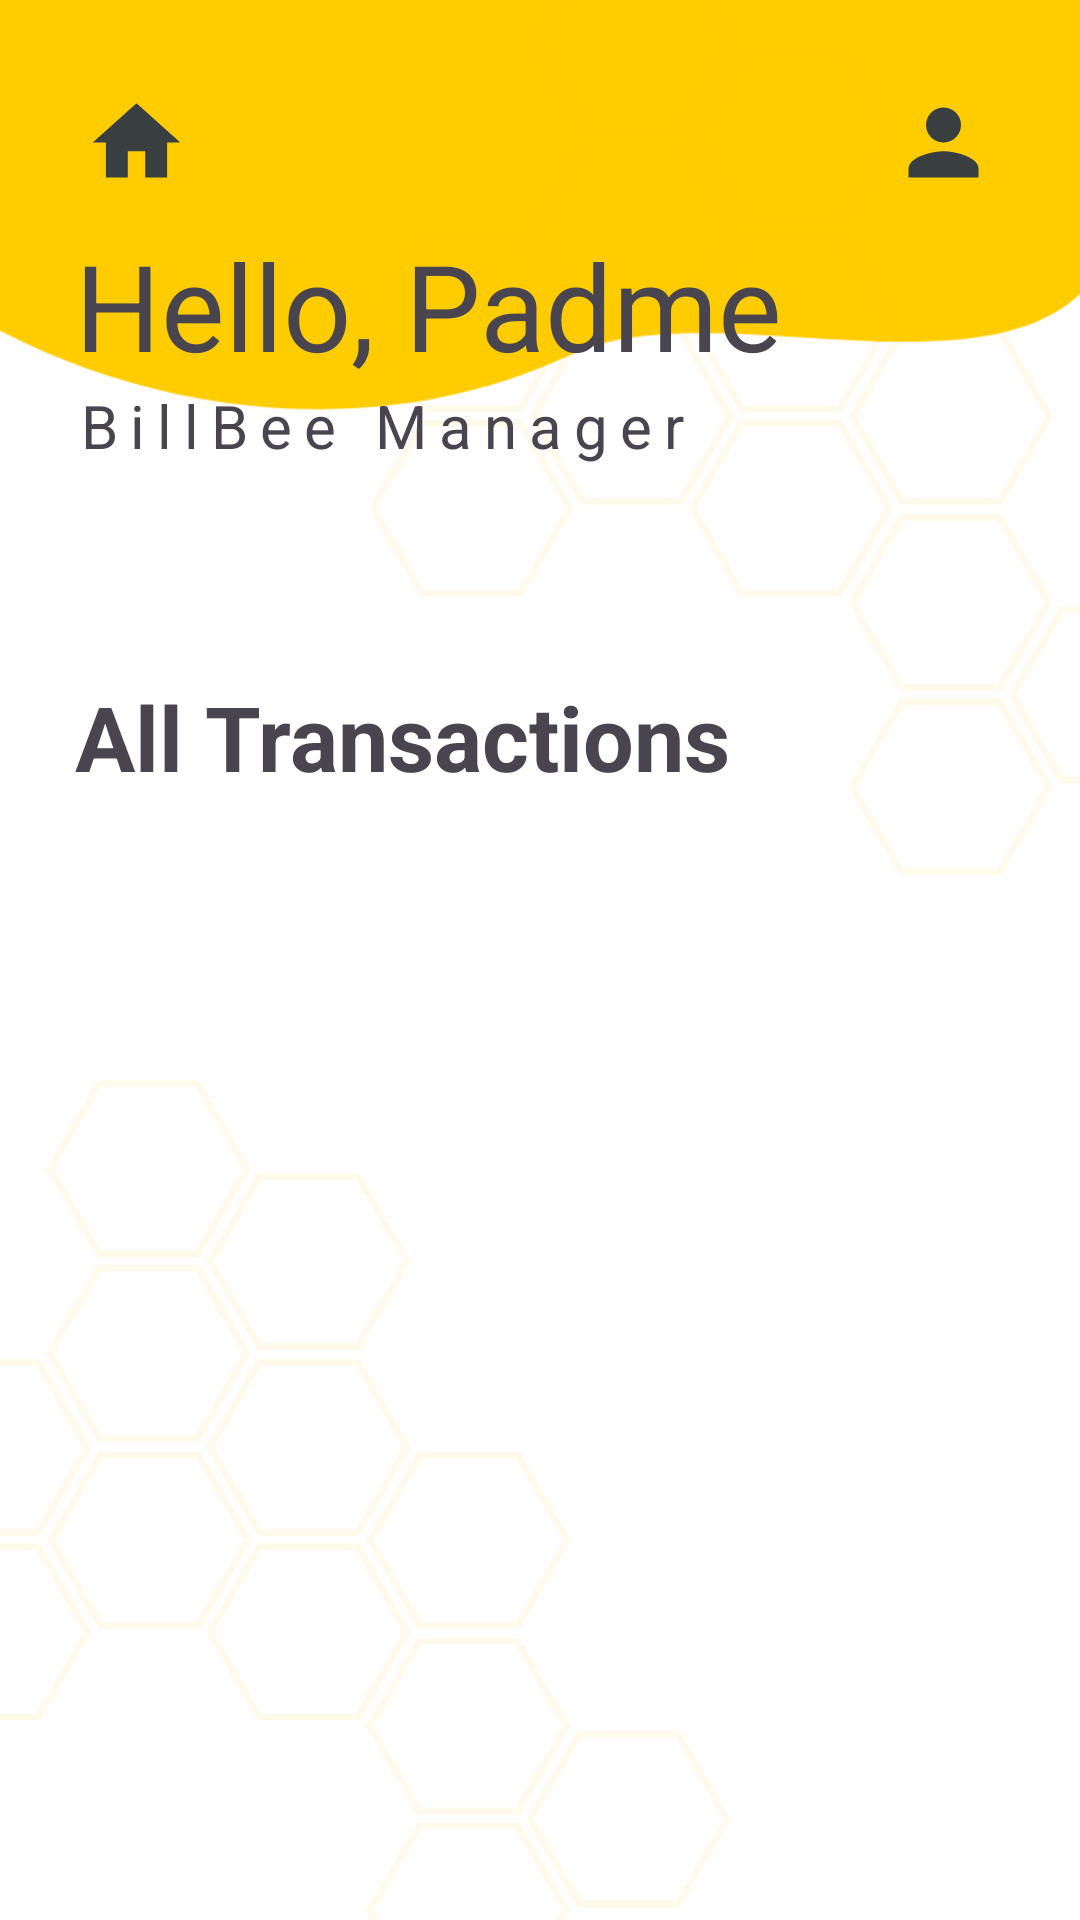

Locate icon controls on the screen. Image size 1080*1920, boxes as bbox(x1, y1, x2, y2).
home: bbox(93, 103, 180, 178)
person: bbox(908, 107, 979, 178)
